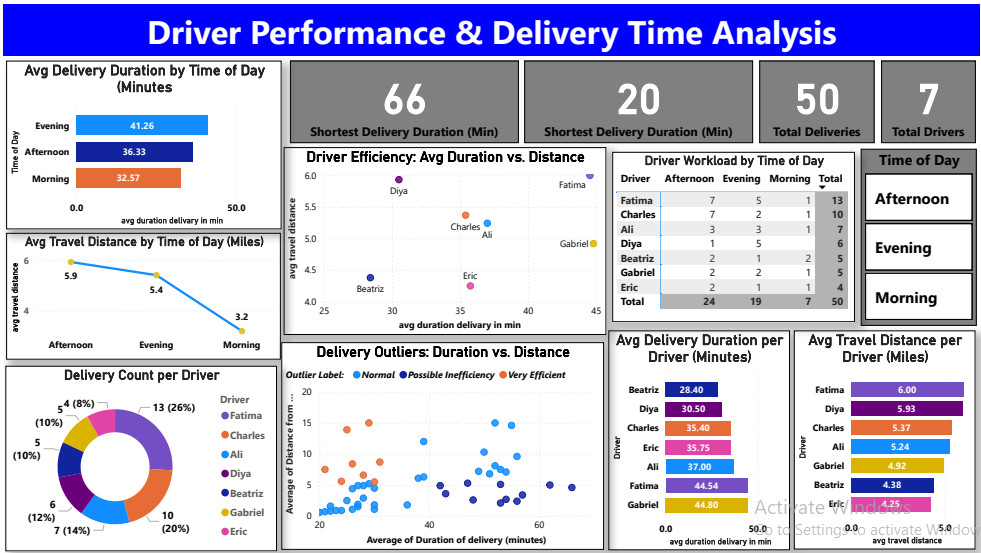

The page's visual inventory and layout, read from the dashboard file:
{"tool":"powerbi","page":{"name":"Page 1","canvas":[1280,720],"ordinal":0},"visuals":[{"type":"barChart","title":"Avg Delivery Duration per Driver (Minutes)","fields":{"Category":["Delivery-times_distance-1-.Driver"],"Y":["Delivery-times_distance-1-.avg duration delivary in min"],"Series":["Delivery-times_distance-1-.Driver"]},"box":[792.4,427.2,237.5,288.3],"z":0},{"type":"barChart","title":"Avg Travel Distance per Driver (Miles)","fields":{"Category":["Delivery-times_distance-1-.Driver"],"Series":["Delivery-times_distance-1-.Driver"],"Y":["Delivery-times_distance-1-.avg travel distance"]},"box":[1035.9,427.2,237.5,286.8],"z":1000},{"type":"scatterChart","title":"Driver Efficiency: Avg Duration vs. Distance","fields":{"Category":["Delivery-times_distance-1-.Driver"],"X":["Delivery-times_distance-1-.avg duration delivary in min"],"Y":["Delivery-times_distance-1-.avg travel distance"],"Series":["Delivery-times_distance-1-.Driver"]},"box":[367.5,186.7,422.7,246.5],"z":2000},{"type":"stackedAreaChart","title":"Avg Travel Distance by Time of Day (Miles)","fields":{"Y":["Delivery-times_distance-1-.avg travel distance"],"Category":["Delivery-times_distance-1-.Time of Day"]},"box":[3.5,298.8,360,165.8],"z":3000},{"type":"card","fields":{"Values":["Delivery-times_distance-1-.Delivery"]},"box":[990.4,73.2,150.9,107.6],"z":4000},{"type":"scatterChart","title":"Delivery Outliers: Duration vs. Distance","fields":{"Category":["Delivery-times_distance-1-.Delivery"],"X":["Delivery-times_distance-1-.Duration of delivery (minutes)"],"Y":["Delivery-times_distance-1-.Distance from Garden (in miles)"],"Series":["Delivery-times_distance-1-.Outlier Label"]},"box":[364.2,442.2,422.7,271.9],"z":5000},{"type":"advancedSlicerVisual","fields":{"Values":["Delivery-times_distance-1-.Time of Day"]},"box":[1124.1,188.2,152.4,231.5],"z":6000},{"type":"pivotTable","title":"Driver Workload by Time of Day","fields":{"Rows":["Delivery-times_distance-1-.Driver"],"Columns":["Delivery-times_distance-1-.Time of Day"],"Values":["Delivery-times_distance-1-.Delivery"]},"box":[797.7,192.7,318.2,222.6],"z":7000},{"type":"donutChart","title":"Delivery Count per Driver","fields":{"Category":["Delivery-times_distance-1-.Driver"],"Y":["Delivery-times_distance-1-.Delivery"]},"box":[2,473.5,355.5,243.5],"z":8000},{"type":"card","fields":{"Values":["Delivery-times_distance-1-.Driver"]},"box":[1150.2,73.2,124,107.6],"z":9000},{"type":"card","fields":{"Values":["Delivery-times_distance-1-.Duration of delivery (minutes)"]},"box":[682.7,73.2,300.2,107.6],"z":10000},{"type":"card","fields":{"Values":["Delivery-times_distance-1-.Duration of delivery (minutes)"]},"box":[374.9,73.2,300.2,107.6],"z":11000},{"type":"textbox","box":[0,0,1280.2,67.2],"z":12000},{"type":"barChart","title":"Avg Delivery Duration by Time of Day (Minutes","fields":{"Category":["Delivery-times_distance-1-.Time of Day"],"Y":["Delivery-times_distance-1-.avg duration delivary in min"],"Series":["Delivery-times_distance-1-.Time of Day"]},"box":[3.5,73.2,361.5,221.1],"z":13000}]}

Visuals, with their boxes in screenshot pixels (x1, y1, x2, y2), scaled from the page's 1280x720 canvas onto the 981x553 screenshot:
"Avg Delivery Duration per Driver (Minutes)" barChart: Rect(607, 328, 789, 550)
"Avg Travel Distance per Driver (Miles)" barChart: Rect(794, 328, 976, 548)
"Driver Efficiency: Avg Duration vs. Distance" scatterChart: Rect(282, 143, 606, 333)
"Avg Travel Distance by Time of Day (Miles)" stackedAreaChart: Rect(3, 229, 279, 357)
card - Delivery-times_distance-1-.Delivery: Rect(759, 56, 875, 139)
"Delivery Outliers: Duration vs. Distance" scatterChart: Rect(279, 340, 603, 548)
advancedSlicerVisual - Delivery-times_distance-1-.Time of Day: Rect(862, 145, 978, 322)
"Driver Workload by Time of Day" pivotTable: Rect(611, 148, 855, 319)
"Delivery Count per Driver" donutChart: Rect(2, 364, 274, 551)
card - Delivery-times_distance-1-.Driver: Rect(882, 56, 977, 139)
card - Delivery-times_distance-1-.Duration of delivery (minutes): Rect(523, 56, 753, 139)
card - Delivery-times_distance-1-.Duration of delivery (minutes): Rect(287, 56, 517, 139)
textbox: Rect(0, 0, 980, 52)
"Avg Delivery Duration by Time of Day (Minutes" barChart: Rect(3, 56, 280, 226)
